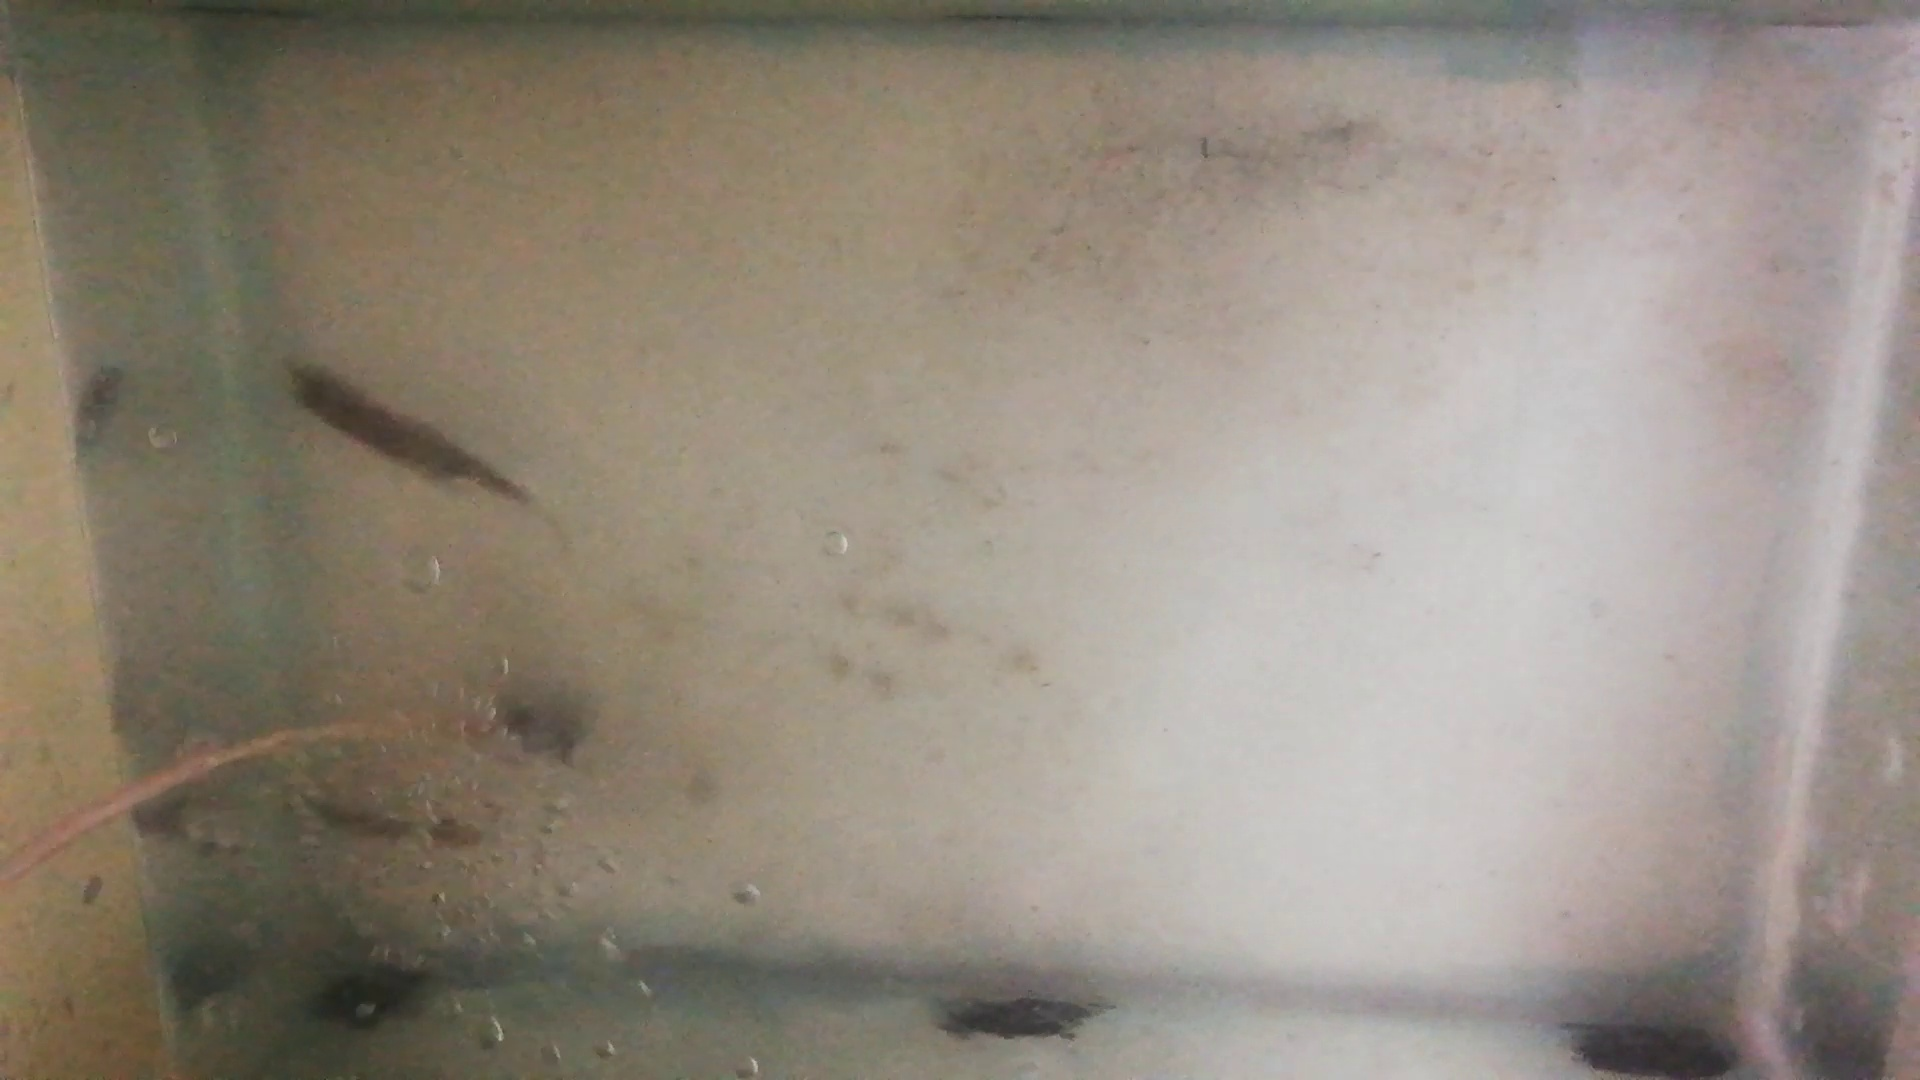fish: (284, 364, 535, 506), (298, 793, 481, 848)
